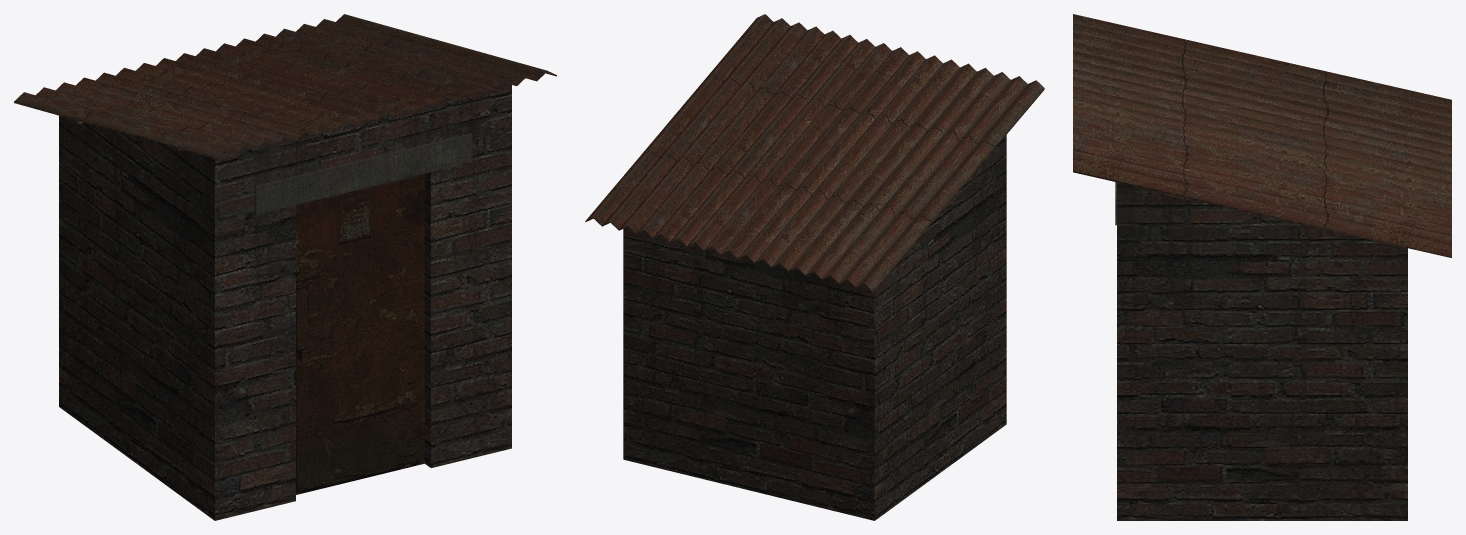
Rendered from shed_ax_1.glb.
3 renders of one model, left to right at view 1: azimuth 30°, elevation 25°; view 2: azimuth 150°, elevation 25°; view 3: azimuth 270°, elevation 25°, orthographic. The views are drawn at different scales.
Parts seen in each view (by area): view 1: shed_ax_1, door_hr_7; view 2: shed_ax_1; view 3: shed_ax_1.
Boxes of the visible parts, x1,y1,x2,y2 form: shed_ax_1: (14, 14, 556, 520); door_hr_7: (296, 174, 424, 494); shed_ax_1: (585, 14, 1044, 520); shed_ax_1: (1073, 14, 1451, 520).
Size of the model in its own units: 2.52 by 2.77 by 2.6.
5 materials, 5 textured.
